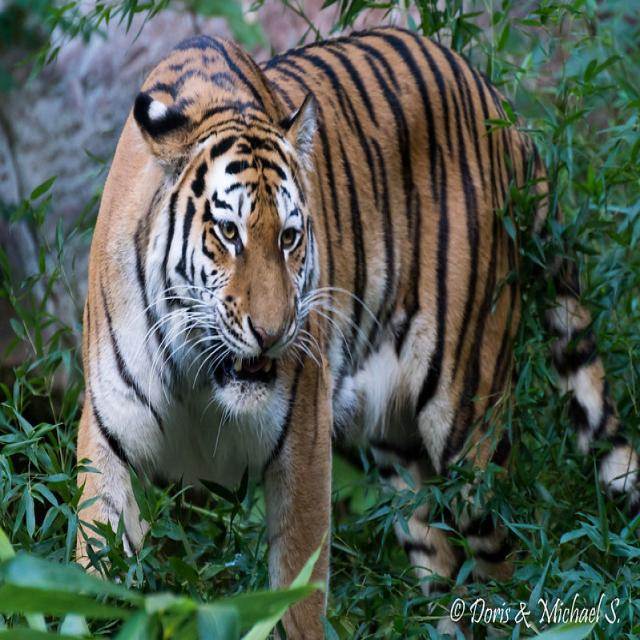Tiger: (64, 11, 567, 639)
